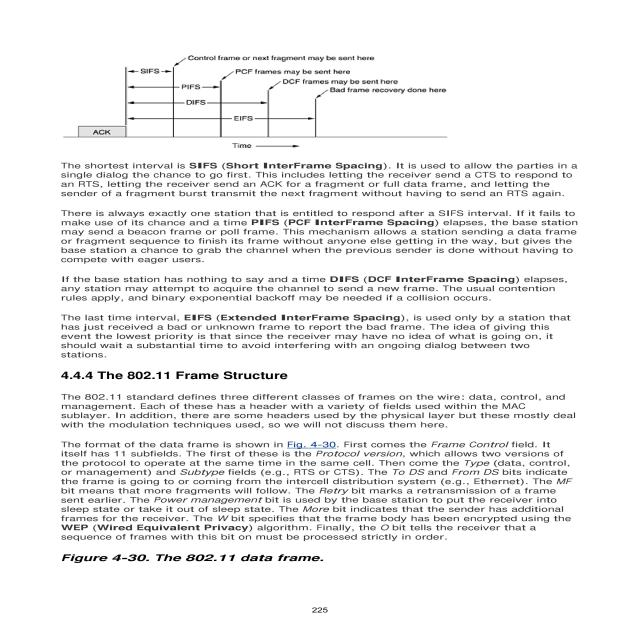diagram: (54, 33, 586, 206), (133, 0, 153, 55)
